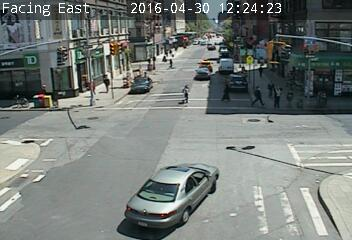neg: (115, 176, 156, 230), (175, 174, 201, 209), (41, 127, 59, 152), (142, 19, 158, 41), (48, 77, 63, 97), (324, 122, 339, 142), (166, 16, 181, 35), (283, 22, 298, 41), (117, 15, 131, 34), (88, 17, 102, 35), (306, 20, 319, 38), (263, 19, 275, 36), (321, 72, 333, 88), (172, 147, 184, 163), (65, 29, 76, 44), (185, 21, 196, 36), (35, 44, 44, 56), (202, 22, 211, 34)
pos: (220, 78, 237, 101), (270, 85, 287, 108), (248, 83, 264, 105), (282, 88, 298, 109), (178, 82, 194, 102), (98, 72, 113, 92), (257, 62, 267, 76), (166, 56, 176, 69), (143, 56, 152, 68)
